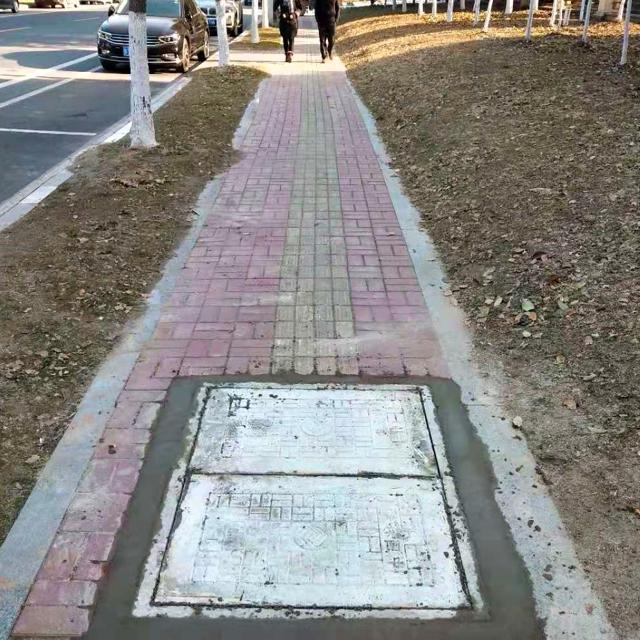good: (129, 381, 489, 620)
